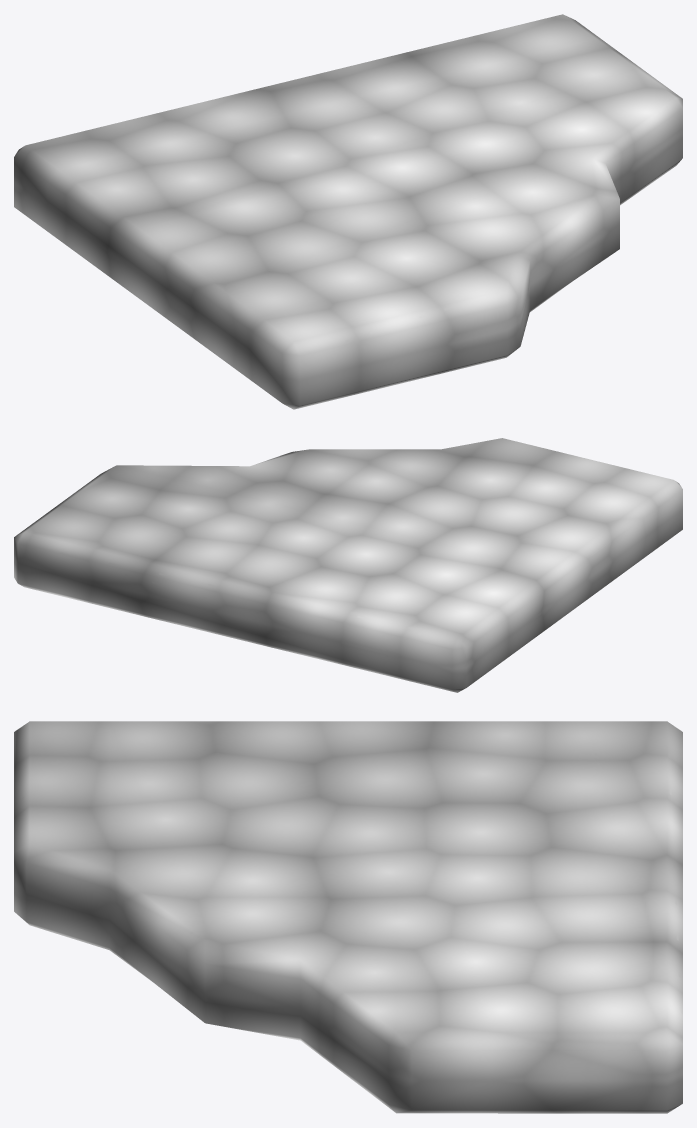
File: penopl.fbx
3 renders of one model, top to bottom at view 1: azimuth 30°, elevation 25°; view 2: azimuth 150°, elevation 25°; view 3: azimuth 270°, elevation 25°, orthographic. The views are drawn at different scales.
Visible parts, largest first — view 1: Cube.001; view 2: Cube.001; view 3: Cube.001.
Part boxes in pixels (box(x1,y1,x2,y2)): Cube.001: box(14, 14, 682, 409); Cube.001: box(14, 438, 682, 692); Cube.001: box(14, 721, 682, 1113).
Size of the model in its own units: 0.9231 by 0.1067 by 0.8017.
